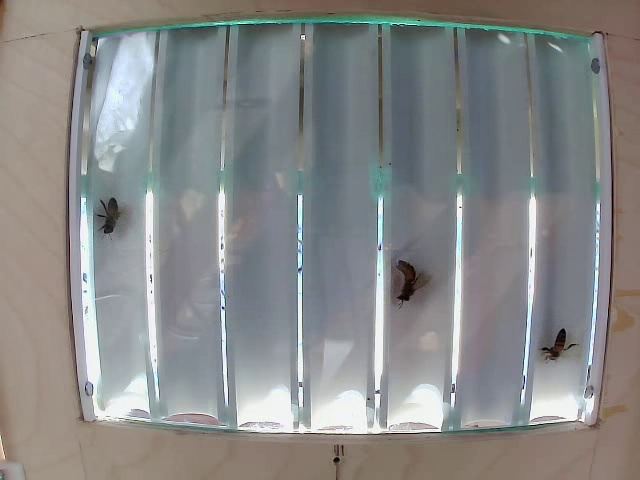bee: (384, 251, 422, 310), (536, 326, 568, 362), (102, 208, 134, 235)
